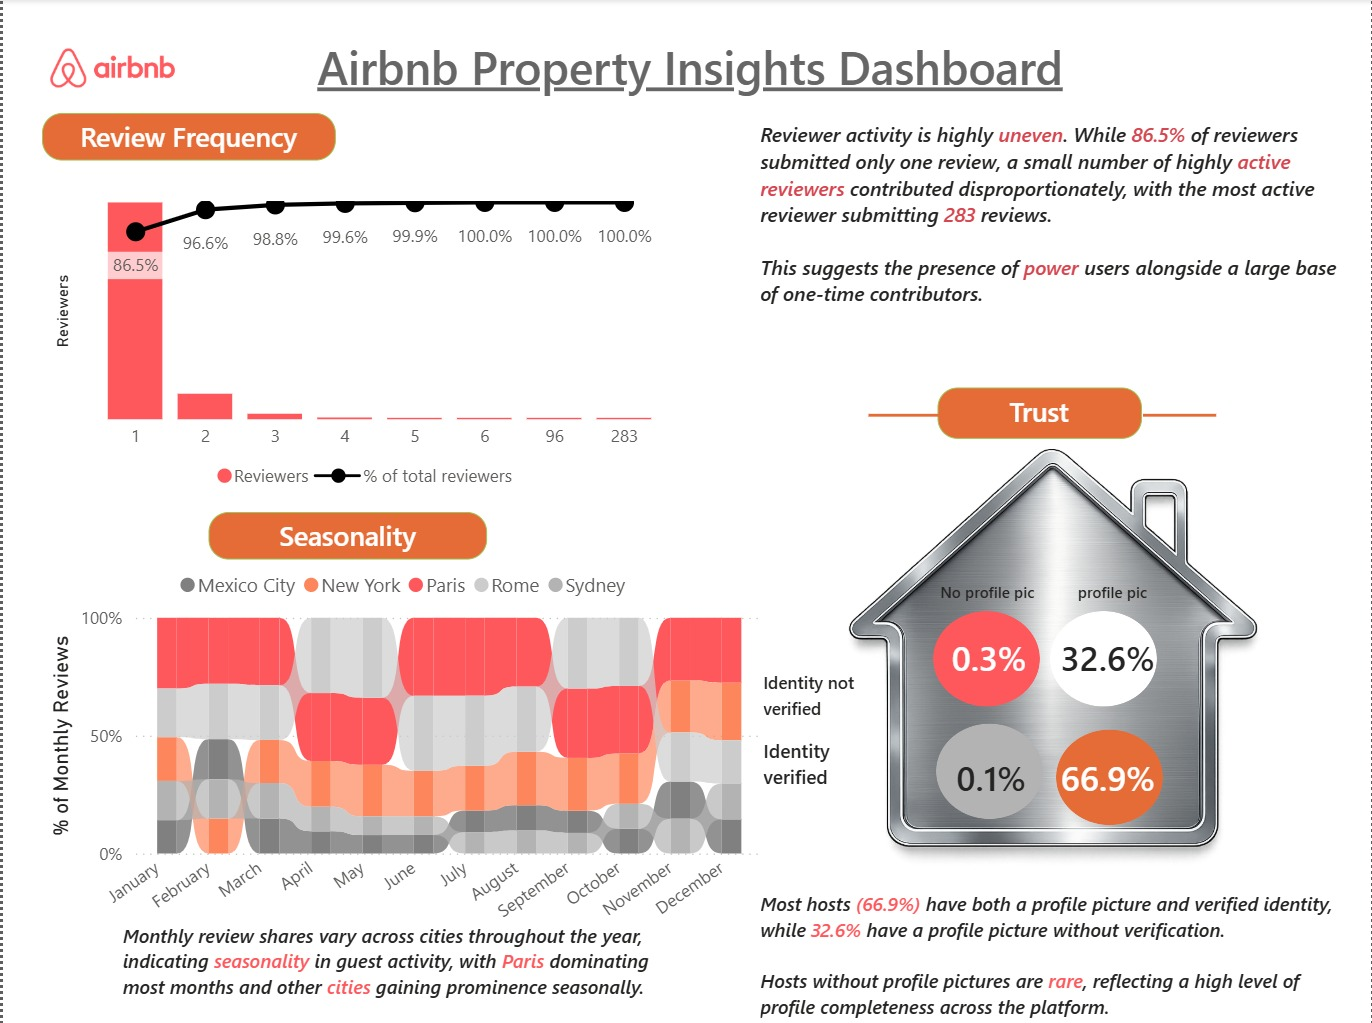

This screenshot's page, from the dashboard's own definition file:
{"tool":"powerbi","page":{"name":"Reviews","canvas":[960,720],"ordinal":3},"visuals":[{"type":"group","id":"g1","title":"Group 1","box":[606.7,193.3,242.2,196.7],"z":1000},{"type":"textbox","box":[202.6,20,557.4,83.1],"z":2000},{"type":"lineStackedColumnComboChart","fields":{"Category":["Reviews.Reviews per Reviewer Column"],"Y":["Reviews.Reviewers"],"Y2":["Reviews.Cumulative % Review Frequency"]},"box":[32,128,448,224],"z":3000},{"type":"image","box":[23.3,34.7,107.3,27.3],"z":4000},{"type":"textbox","box":[525.8,79.9,414.3,176.7],"z":5000},{"type":"textbox","box":[27.5,79.9,206.1,33.7],"z":6000},{"type":"textbox","box":[655.5,272.1,143,35.8],"z":7000,"group":"g1"},{"type":"shape","box":[606.7,193.3,49.4,196.7],"z":8000,"group":"g1"},{"type":"ribbonChart","fields":{"Series":["Listings.city"],"Category":["Reviews.date.Variation.Date Hierarchy.Month"],"Y":["Reviews.% of Monthly Reviews"]},"box":[27.3,390.2,510,276.6],"z":8000},{"type":"shape","box":[798.9,193.7,51.5,196.7],"z":9000,"group":"g1"},{"type":"textbox","box":[144.4,360,195.6,33.3],"z":9000},{"type":"shape","box":[734.6,429.9,75,67],"z":9000,"group":"g2"},{"type":"shape","box":[652,429.1,75,67],"z":10000,"group":"g2"},{"type":"textbox","box":[78.9,641.1,402.2,70],"z":10000},{"type":"shape","box":[654,508.3,75,67],"z":11000,"group":"g2"},{"type":"textbox","box":[525.8,619.4,413.3,101],"z":11000},{"type":"image","box":[528,208,416,512],"z":12000},{"type":"shape","box":[738,512,75,67],"z":12000,"group":"g2"},{"type":"group","id":"g2","title":"Group 2","box":[528,400,347,179],"z":13000},{"type":"textbox","box":[651.8,400,87.3,30.1],"z":13000,"group":"g2"},{"type":"textbox","box":[745.6,400,87.3,30.1],"z":14000,"group":"g2"},{"type":"textbox","box":[528,464,96,48],"z":15000,"group":"g2"},{"type":"textbox","box":[528,512,80,48],"z":16000,"group":"g2"},{"type":"cardVisual","fields":{"Data":["Listings.NotVerified_NoProfile %"]},"box":[591,430,201.8,59.7],"z":17000,"group":"g2"},{"type":"cardVisual","fields":{"Data":["Listings.NotVerified_Profile %"]},"box":[674,430,201,59],"z":18000,"group":"g2"},{"type":"cardVisual","fields":{"Data":["Listings.Verified_noProfile %"]},"box":[589,512,208,64],"z":19000,"group":"g2"},{"type":"cardVisual","fields":{"Data":["Listings.Verified_Profile %"]},"box":[687,512,176,64],"z":20000,"group":"g2"}]}

Visuals, with their boxes in screenshot pixels (x1, y1, x2, y2), scaled from the page's 960x720 canvas onto the 1372x1023 screenshot:
"Group 1" group: x1=867, y1=275, x2=1213, y2=554
textbox: x1=290, y1=28, x2=1086, y2=146
lineStackedColumnComboChart - Reviews.Reviews per Reviewer Column x Reviews.Reviewers: x1=46, y1=182, x2=686, y2=500
image: x1=33, y1=49, x2=187, y2=88
textbox: x1=751, y1=114, x2=1344, y2=365
textbox: x1=39, y1=114, x2=334, y2=161
textbox: x1=937, y1=387, x2=1141, y2=437
shape: x1=867, y1=275, x2=938, y2=554
ribbonChart - Listings.city x Reviews.date.Variation.Date Hierarchy.Month: x1=39, y1=554, x2=768, y2=947
shape: x1=1142, y1=275, x2=1215, y2=555
textbox: x1=206, y1=512, x2=486, y2=559
shape: x1=1050, y1=611, x2=1157, y2=706
shape: x1=932, y1=610, x2=1039, y2=705
textbox: x1=113, y1=911, x2=688, y2=1010
shape: x1=935, y1=722, x2=1042, y2=817
textbox: x1=751, y1=880, x2=1342, y2=1022
image: x1=755, y1=296, x2=1349, y2=1022
shape: x1=1055, y1=727, x2=1162, y2=823
"Group 2" group: x1=755, y1=568, x2=1251, y2=823
textbox: x1=932, y1=568, x2=1056, y2=611
textbox: x1=1066, y1=568, x2=1190, y2=611
textbox: x1=755, y1=659, x2=892, y2=727
textbox: x1=755, y1=727, x2=869, y2=796
cardVisual - Listings.NotVerified_NoProfile %: x1=845, y1=611, x2=1133, y2=696
cardVisual - Listings.NotVerified_Profile %: x1=963, y1=611, x2=1251, y2=695
cardVisual - Listings.Verified_noProfile %: x1=842, y1=727, x2=1139, y2=818
cardVisual - Listings.Verified_Profile %: x1=982, y1=727, x2=1233, y2=818
